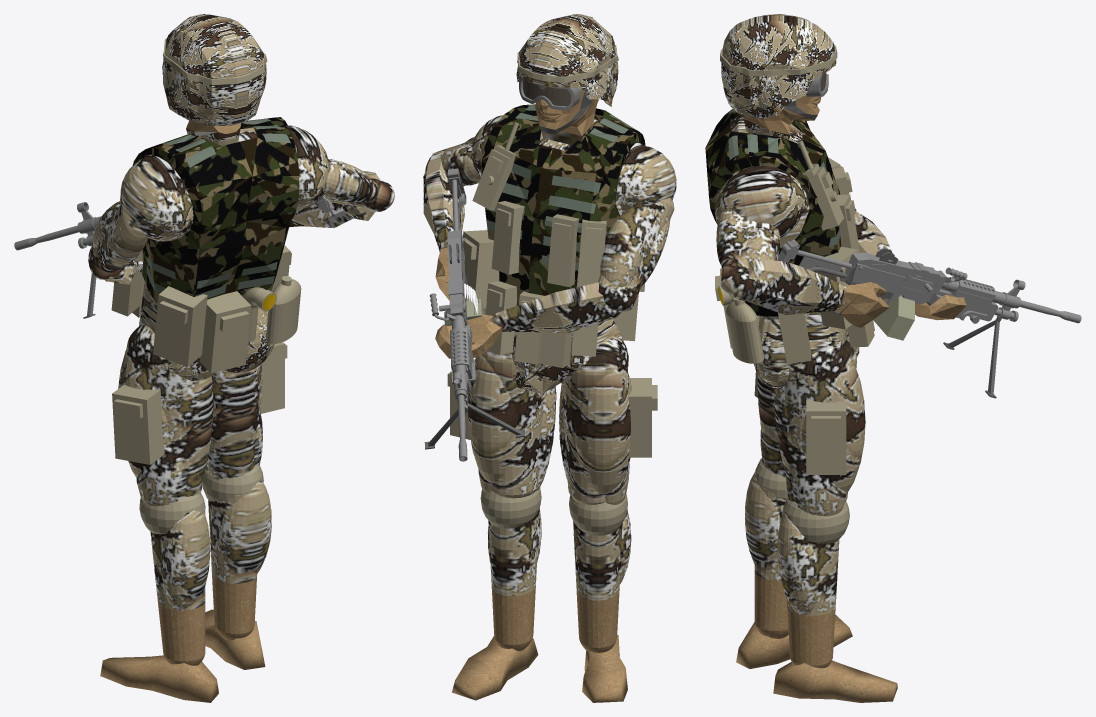
File: soldier.glb
The picture shows the model from 3 angles, left to right: view 1: azimuth 30°, elevation 25°; view 2: azimuth 150°, elevation 25°; view 3: azimuth 270°, elevation 25°; orthographic projection. The views are drawn at different scales.
Visible parts, largest first — view 1: US_Soldiers_0; view 2: US_Soldiers_0; view 3: US_Soldiers_0.
Part boxes in pixels (x1,y1,x2,y2): US_Soldiers_0: (14, 14, 394, 702); US_Soldiers_0: (423, 14, 676, 702); US_Soldiers_0: (705, 14, 1081, 702).
Size of the model in its own units: 2.45 by 5.97 by 3.1.
23 materials, 7 textured.
